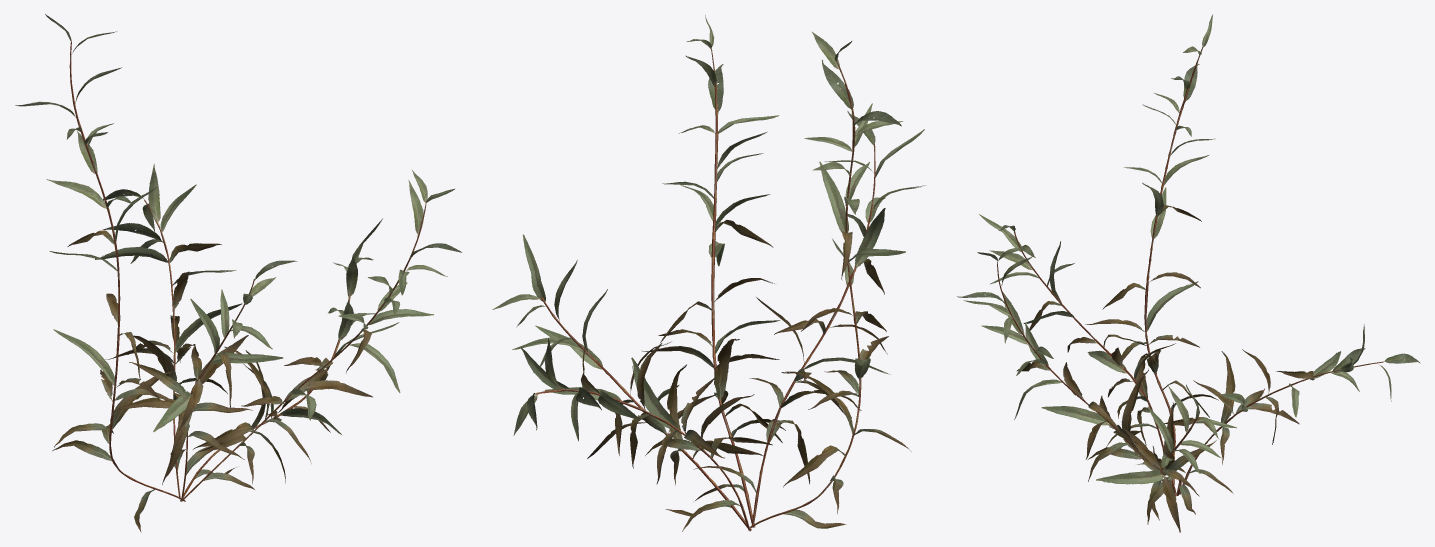
3 renders of one model, left to right at view 1: azimuth 30°, elevation 25°; view 2: azimuth 150°, elevation 25°; view 3: azimuth 270°, elevation 25°, orthographic. The views are drawn at different scales.
Parts seen in each view (by area): view 1: high, low; view 2: high, low; view 3: high, low.
Part boxes in pixels (x1,y1,x2,y2): high: [15, 14, 461, 532]; low: [15, 16, 461, 530]; high: [493, 15, 924, 531]; low: [492, 19, 925, 528]; high: [958, 14, 1419, 532]; low: [957, 15, 1420, 532].
Size of the model in its own units: 1.31 by 1.69 by 1.64.
Materials: 1 (1 with a texture image).
